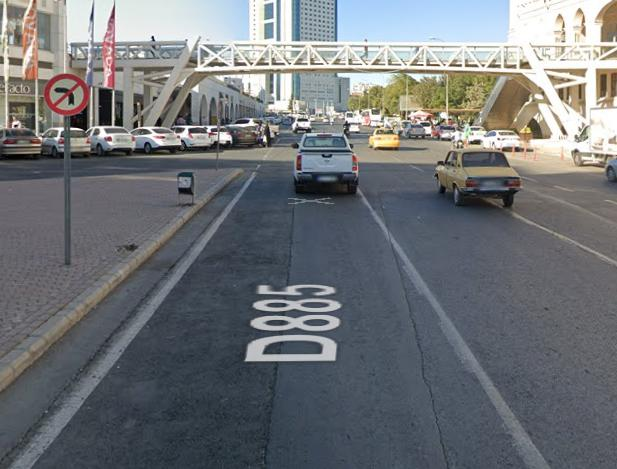leftturnsareforbidden: (49, 71, 89, 111)
